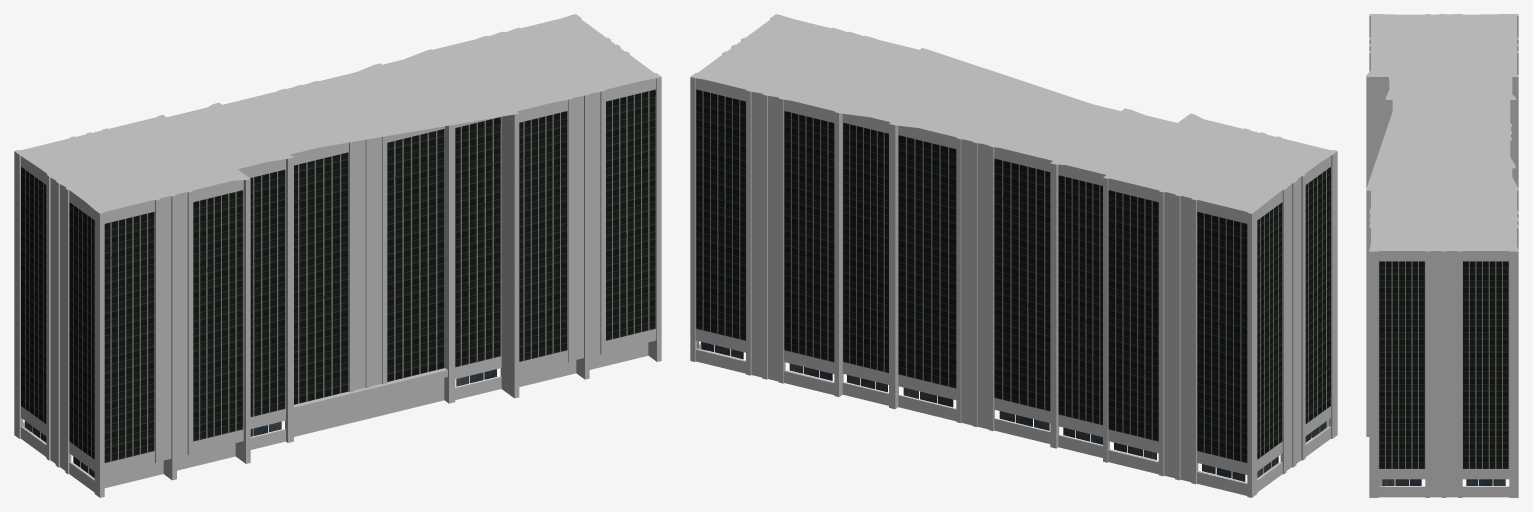
The picture shows the model from 3 angles, left to right: view 1: azimuth 30°, elevation 25°; view 2: azimuth 150°, elevation 25°; view 3: azimuth 270°, elevation 25°; orthographic projection. The views are drawn at different scales.
Parts seen in each view (by area): view 1: BC-060; view 2: BC-060; view 3: BC-060.
Part boxes in pixels (<box>): BC-060: <box>14,14,661,497</box>; BC-060: <box>690,14,1337,497</box>; BC-060: <box>1366,14,1518,497</box>.
Size of what is drawn, in the model's own units: 84.23 by 40.7 by 22.77.
